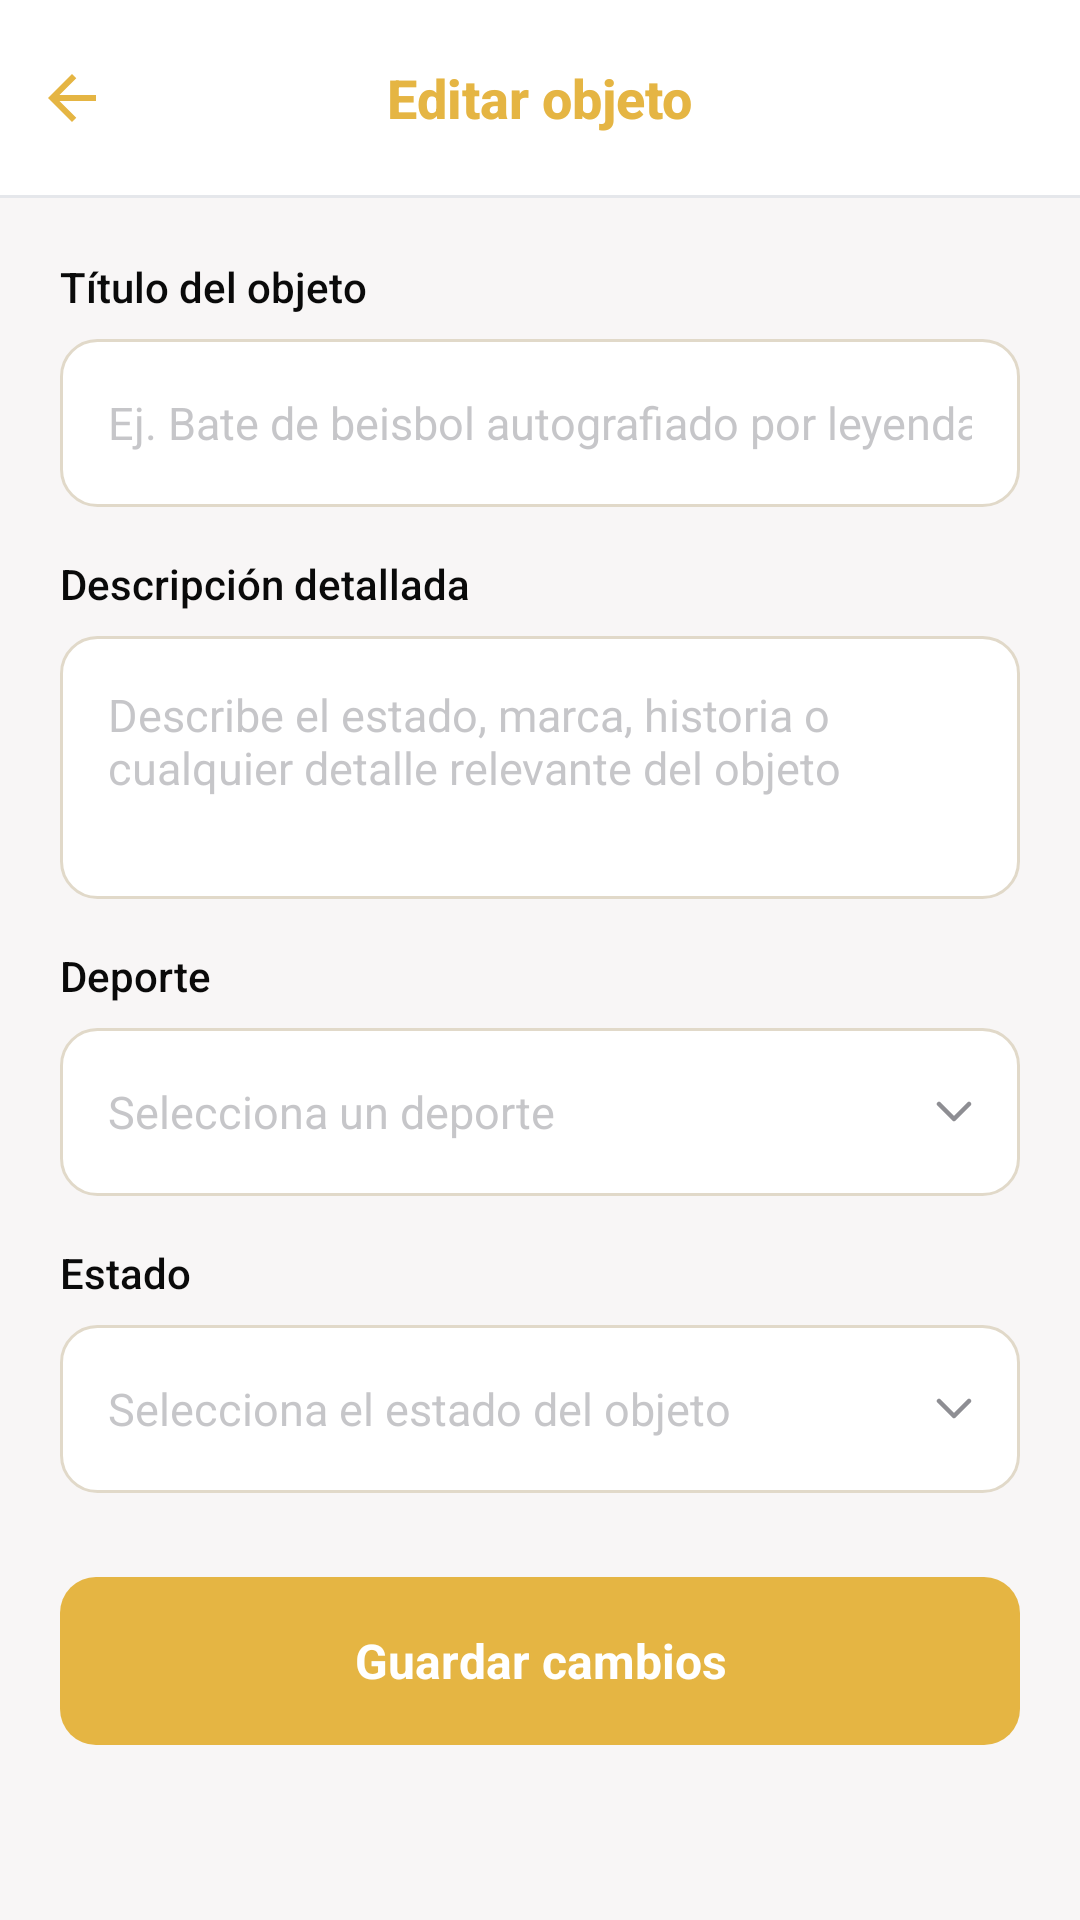

Icon click points for this 1080×1920 phone screenshot, format (x,y):
Volver: (72,98)
